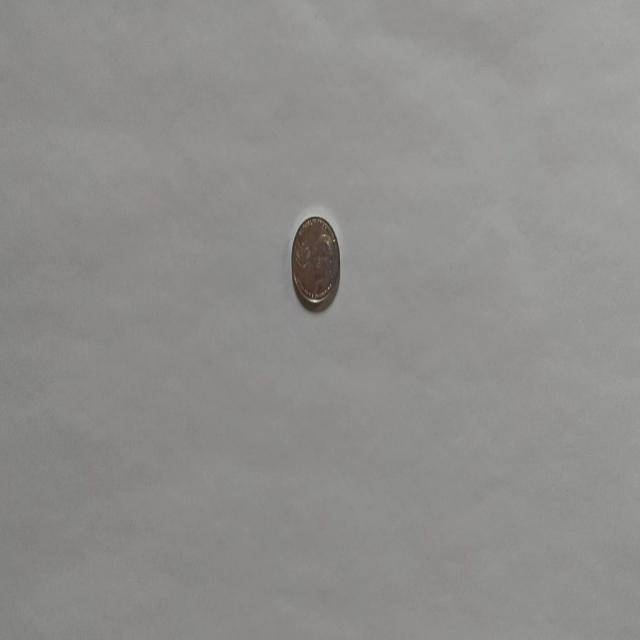lima ratus rupiah: (290, 213, 340, 312)
